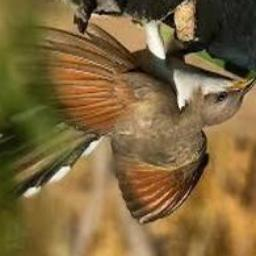Cuckoo: (0, 20, 256, 226)
